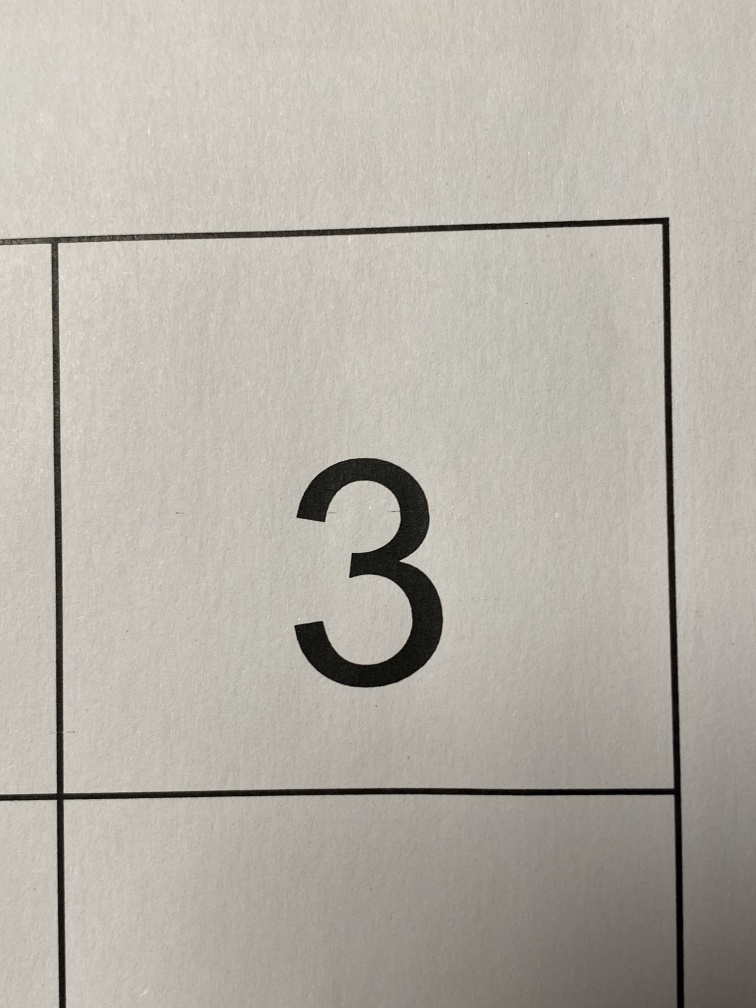three: (234, 416, 495, 741)
